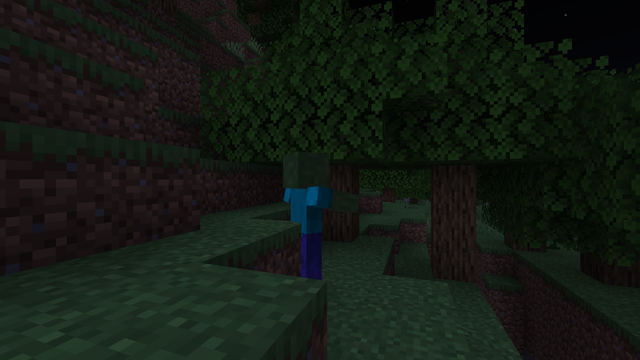zombies: (277, 155, 330, 288)
